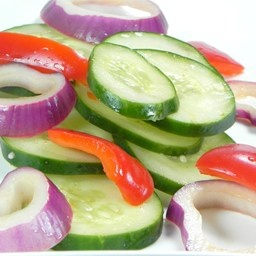background: (0, 0, 102, 101)
